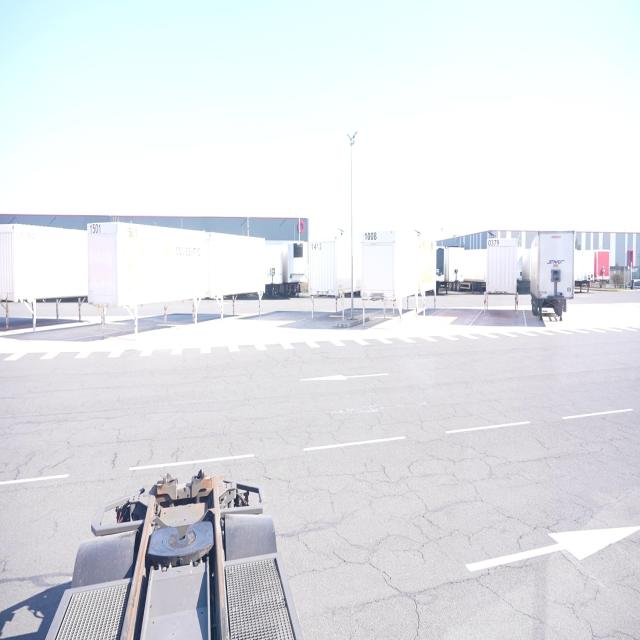Code: (84, 221, 105, 239), (308, 240, 324, 255), (364, 229, 378, 244), (488, 240, 504, 250)
